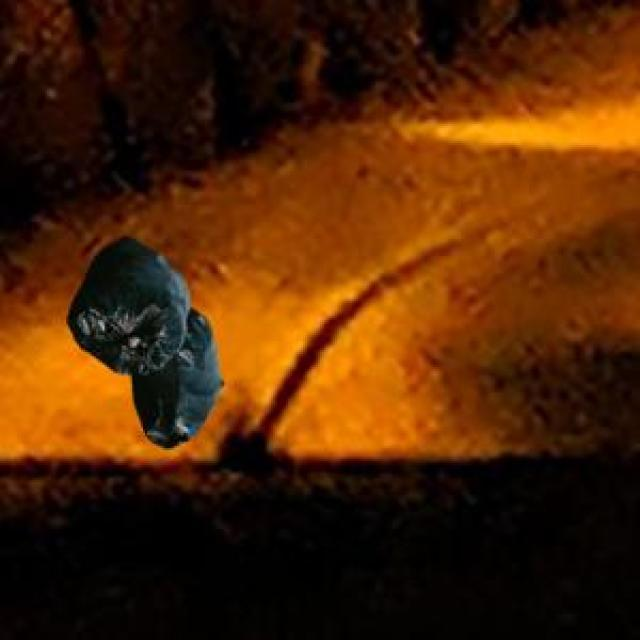Trashbag: (69, 240, 187, 367), (132, 341, 218, 450)
